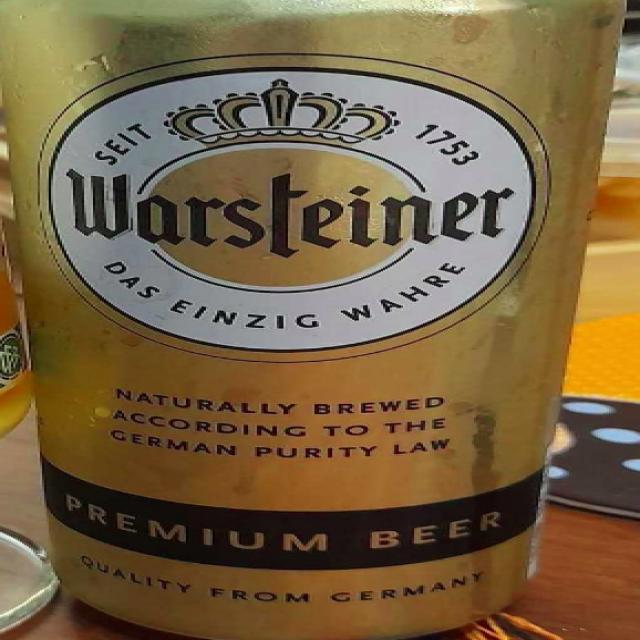Warsteiner Premium: (2, 0, 640, 640)
